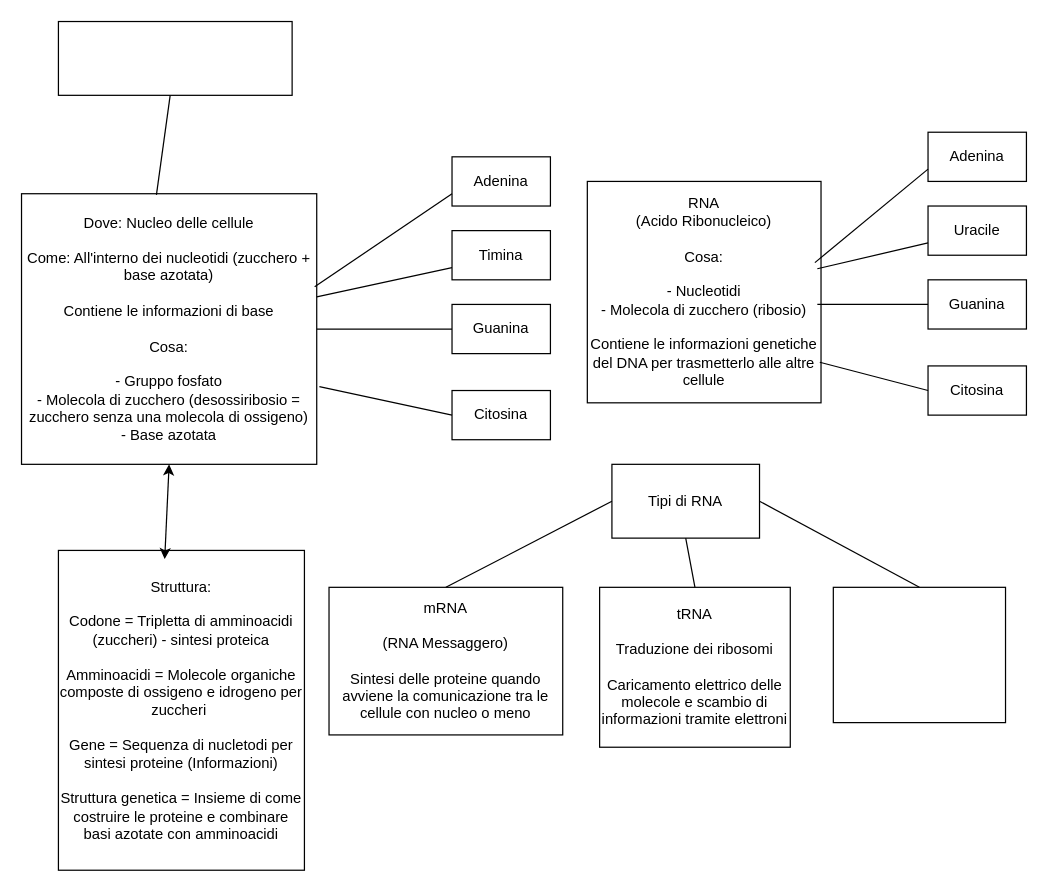
This 1048x892 diagram has some shape labels left out. Each missing label, with the centre of its shape:
DNA (Acido Desossiribonucleico): (174,57)
rRNA Sintesi dei ribosomi (proteine ripiegate nella fase di sintesi proteica): (919,654)
